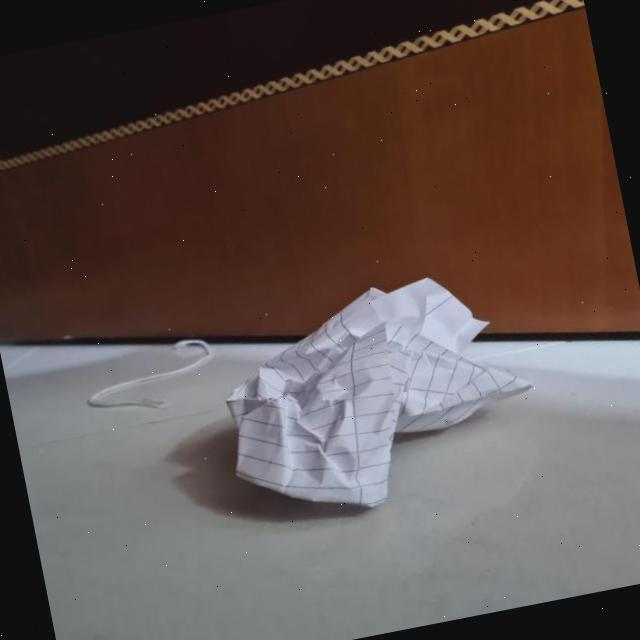trash: (207, 258, 536, 540)
